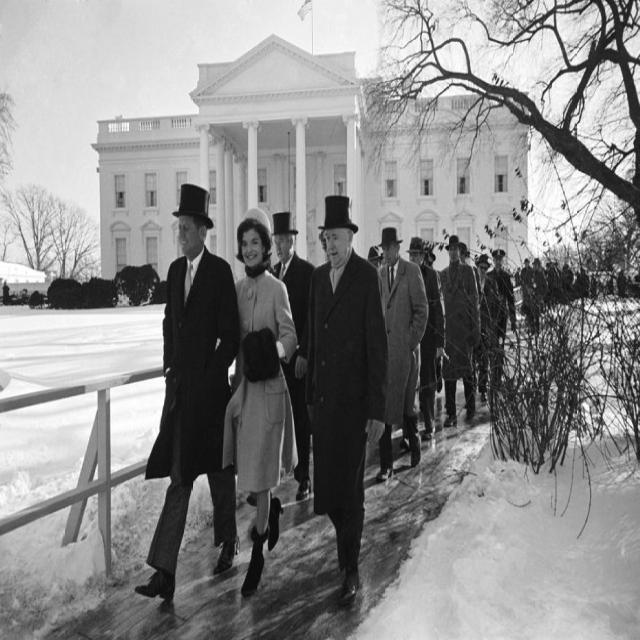hat: (173, 182, 214, 258), (318, 198, 361, 266), (268, 214, 299, 260), (374, 228, 403, 264), (442, 235, 466, 265), (408, 239, 426, 264)
